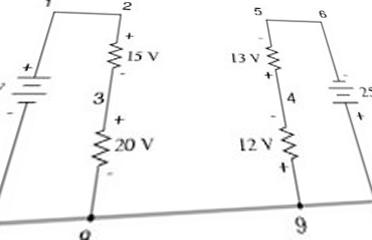resistor: (87, 123, 113, 165), (99, 38, 126, 72), (276, 119, 297, 157), (264, 38, 284, 66)
